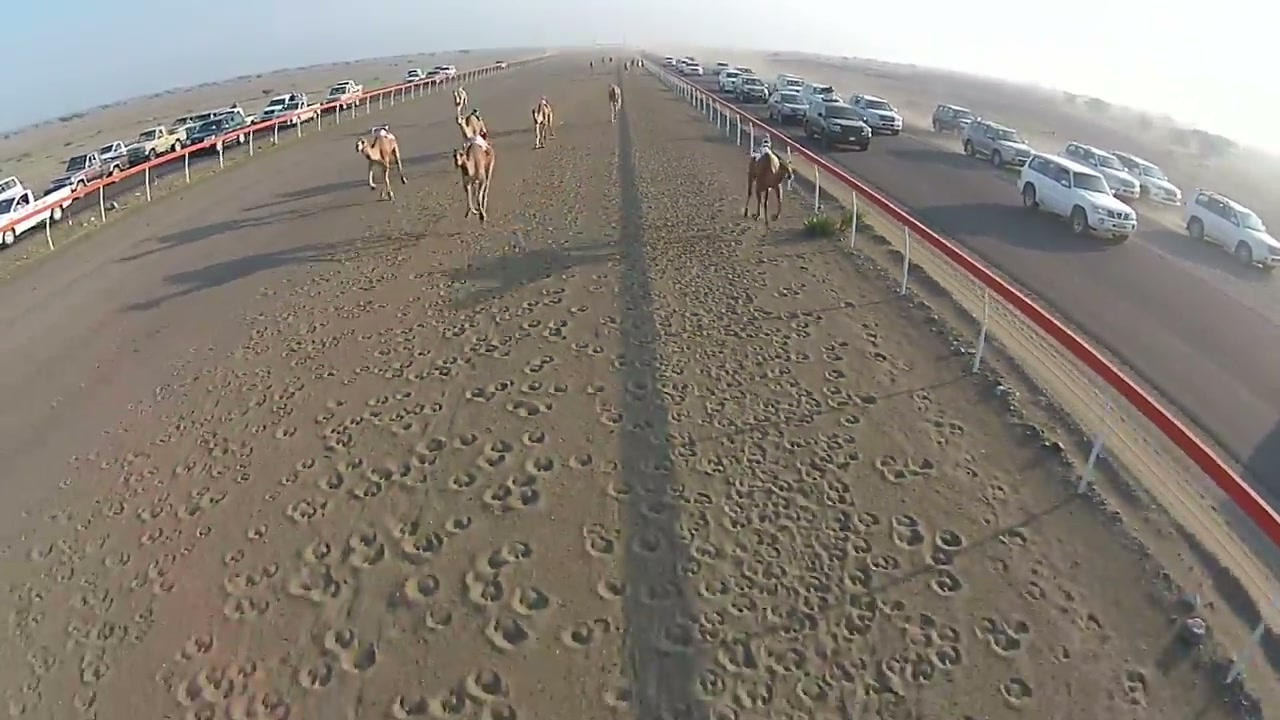animal_footprint: (6, 111, 1219, 719), (658, 242, 1025, 701), (156, 658, 296, 718), (390, 668, 518, 719), (320, 626, 378, 672), (482, 475, 542, 513), (976, 616, 1030, 655), (484, 613, 533, 650), (398, 528, 446, 565), (874, 455, 937, 483), (343, 527, 386, 568), (560, 618, 615, 649), (463, 667, 509, 704), (464, 571, 508, 606), (928, 528, 965, 566), (510, 586, 554, 616), (297, 657, 337, 689), (891, 514, 926, 549), (477, 438, 514, 470), (402, 573, 440, 604), (285, 497, 328, 523), (223, 596, 270, 619), (929, 416, 965, 446), (1121, 667, 1148, 706), (999, 676, 1032, 707), (929, 567, 964, 596), (602, 681, 634, 712), (595, 576, 626, 600), (998, 527, 1029, 547), (911, 389, 934, 413)
